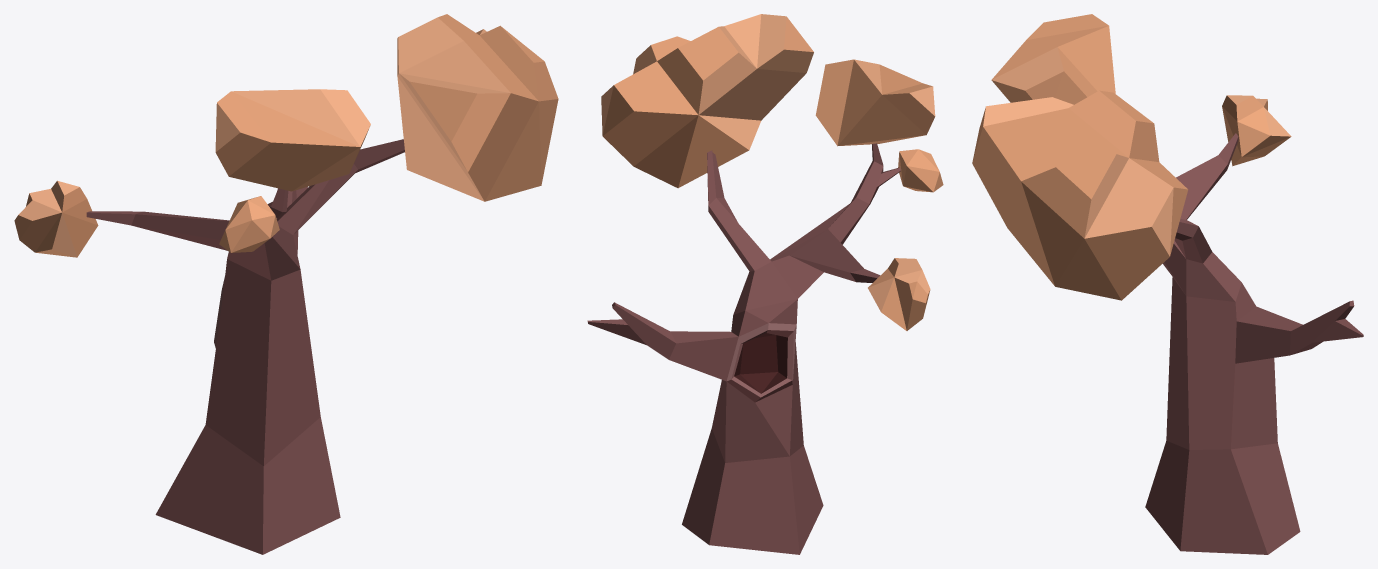
The model's file is TreeWinter1_Alt2.fbx.
The picture shows the model from 3 angles, left to right: view 1: azimuth 30°, elevation 25°; view 2: azimuth 150°, elevation 25°; view 3: azimuth 270°, elevation 25°; orthographic projection. The views are drawn at different scales.
Visible parts, largest first — view 1: TreeWinter1_Alt2; view 2: TreeWinter1_Alt2; view 3: TreeWinter1_Alt2.
Part boxes in pixels (x1,y1,x2,y2): TreeWinter1_Alt2: [14, 14, 558, 554]; TreeWinter1_Alt2: [587, 14, 943, 554]; TreeWinter1_Alt2: [972, 14, 1363, 554].
Bounding box in the file's own units: 1.78 × 1.96 × 1.44.
